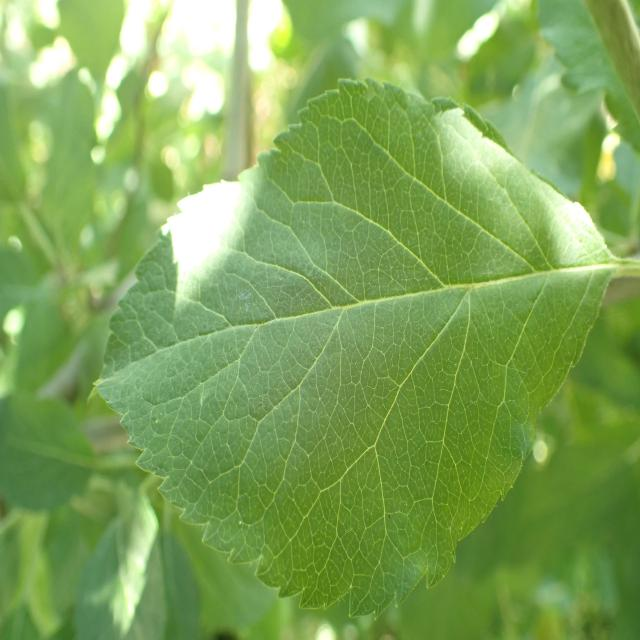healthy: (87, 75, 617, 620)
